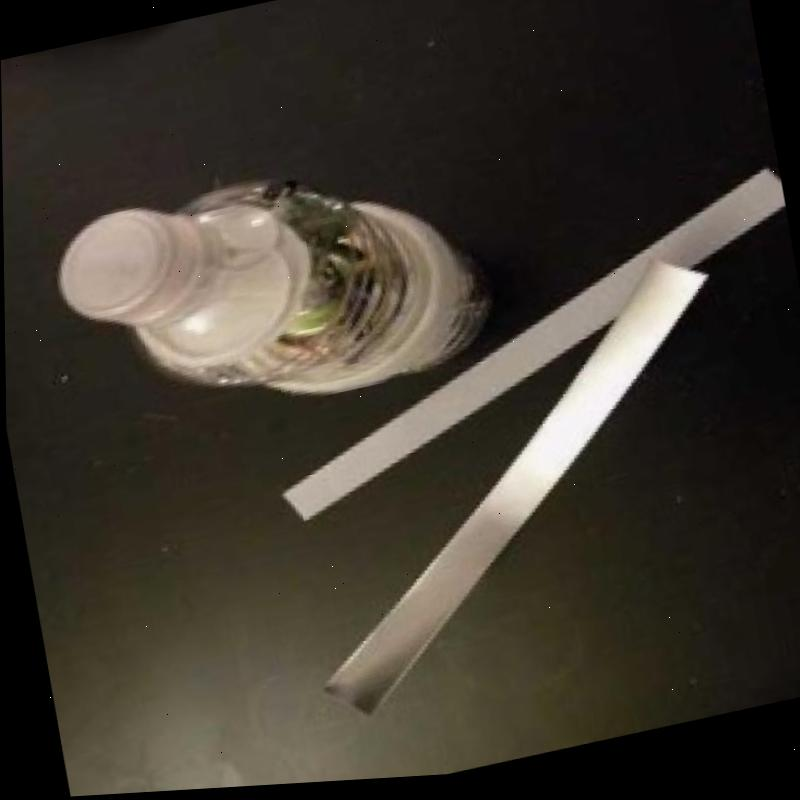botella: (50, 140, 494, 452)
